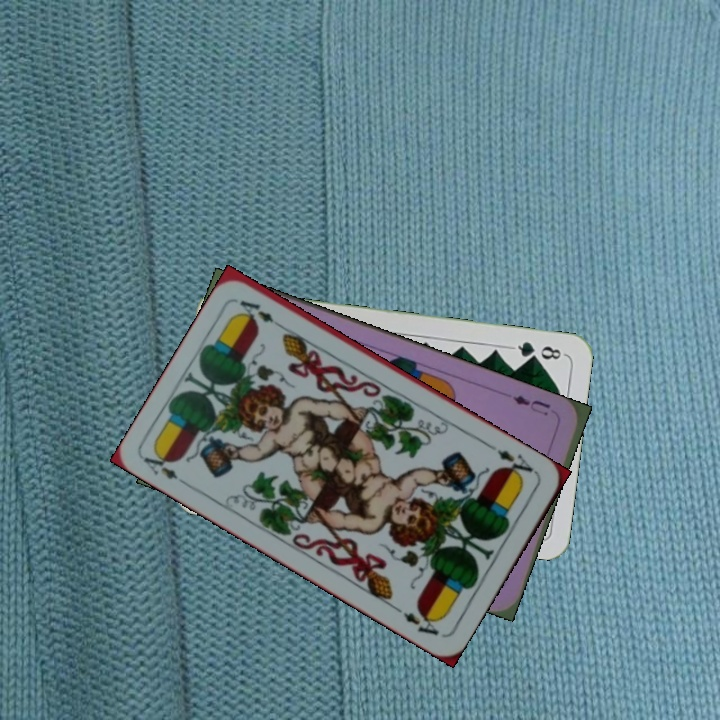EA: (139, 446, 193, 491), (486, 441, 540, 482)
EU: (508, 391, 553, 419)
G8: (508, 337, 567, 363)
